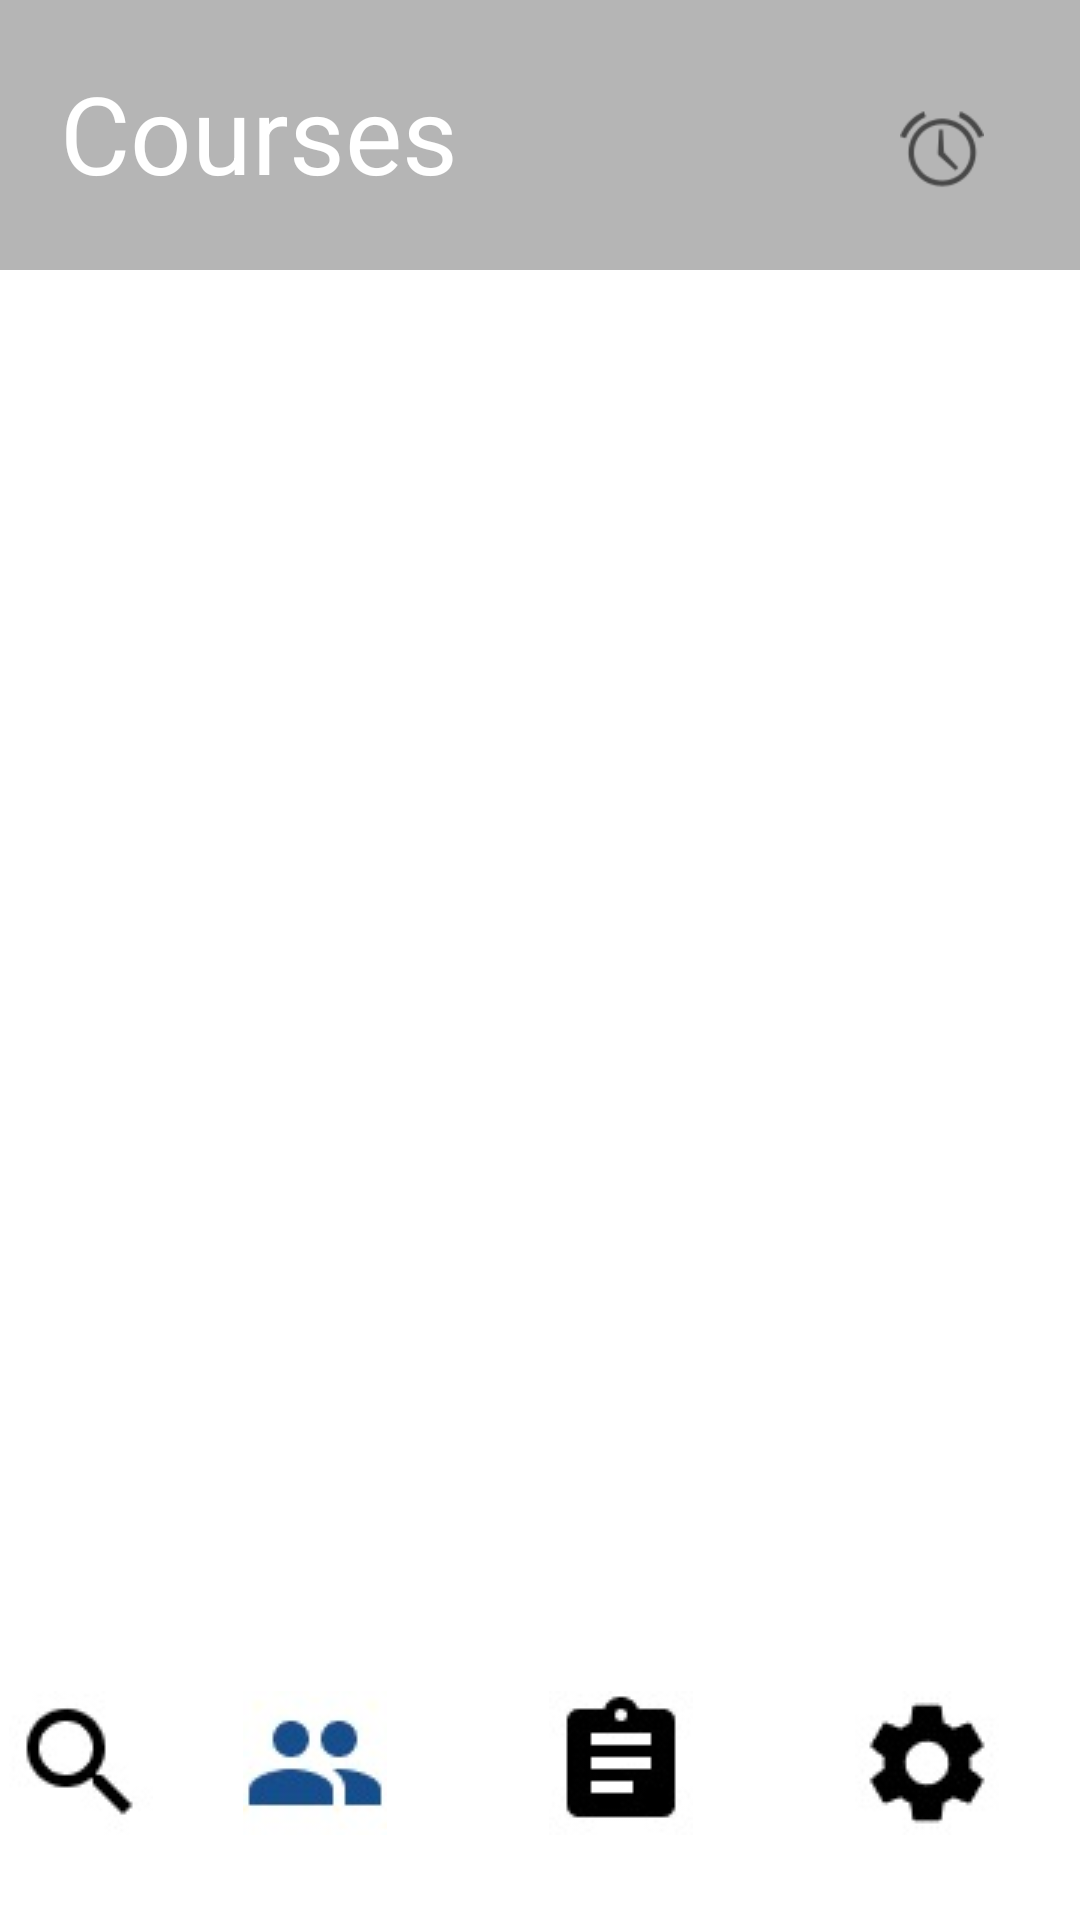

Icon click points for this 1080 × 1920 phone screenshot, format point (x, y):
course list: point (621, 1757)
people: point (312, 1765)
search: point (79, 1761)
setting: point (927, 1763)
